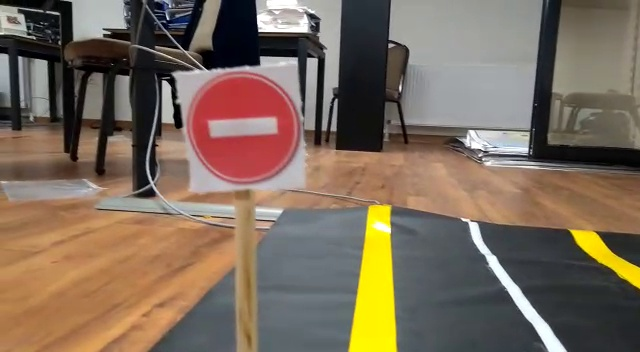girisi_olmayan_yol: (186, 68, 302, 187)
